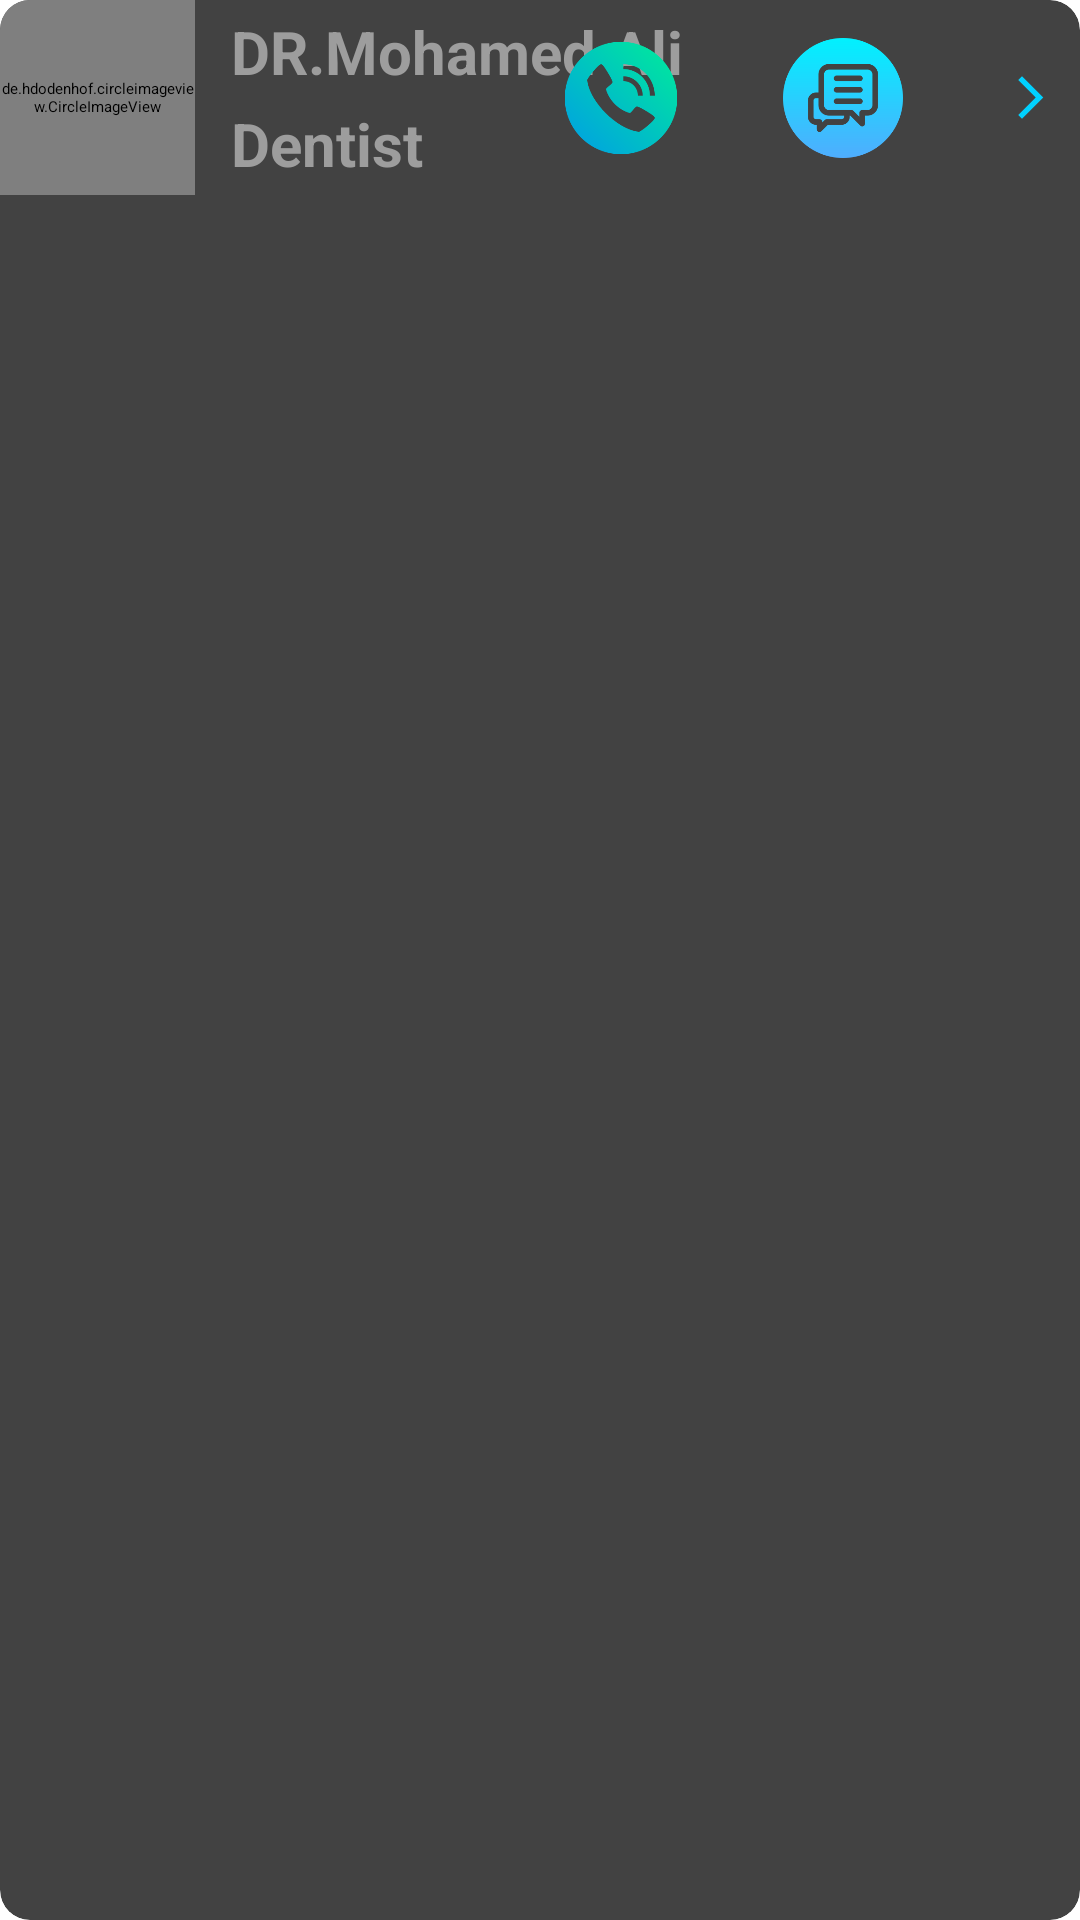

Icon bounding boxes for this 1080px x 1920px phone screenshot, format {"x1": x1, "y1": y1, "x2": x2, "y2": y2}:
call: {"x1": 564, "y1": 38, "x2": 679, "y2": 154}
chat: {"x1": 783, "y1": 38, "x2": 903, "y2": 158}
forward: {"x1": 1018, "y1": 76, "x2": 1043, "y2": 119}
